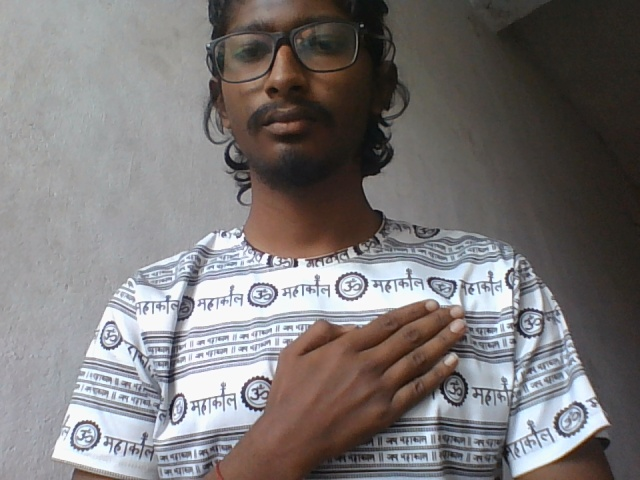Pay: (253, 289, 473, 438)
